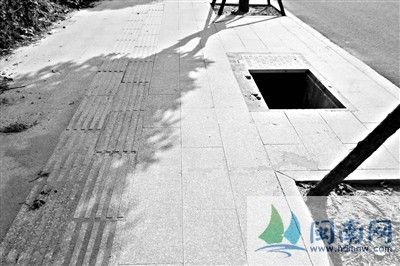lose: (232, 52, 354, 119)
